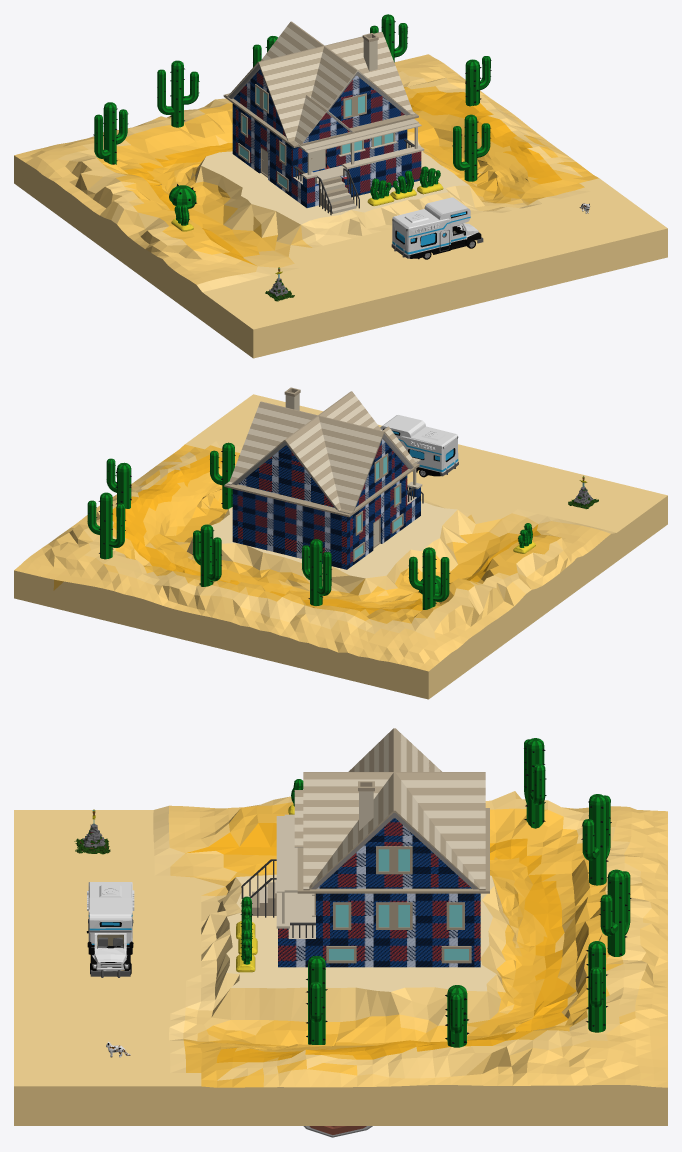
3 views of the same model, one above another, from view 1: azimuth 30°, elevation 25°; view 2: azimuth 150°, elevation 25°; view 3: azimuth 270°, elevation 25° (orthographic). The views are drawn at different scales.
Parts seen in each view (by area): view 1: Cube.001, Cube.171, VEHICLES_CAMPER, Cylinder.037, Cylinder.044, Cylinder.045, Cylinder.038, Cylinder.042, Cylinder.039, Cylinder.041, Sphere.023; view 2: Cube.001, Cube.171, VEHICLES_CAMPER, Cylinder.042, Cylinder.045, Cylinder.044, Cylinder.043, Cylinder.037, Cylinder.038; view 3: Cube.001, Cube.171, VEHICLES_CAMPER, Cylinder.043, Cylinder.044, Cylinder.045, Cylinder.042, Cylinder.037, Cylinder.038, OBJRANDOM_SWORD_IN_THE_STONE, Cylinder.041.
Boxes of the visible parts, x1,y1,x2,y2 form: Cube.001: (14,54,667,358); Cube.171: (223,21,424,215); VEHICLES_CAMPER: (391,197,483,259); Cylinder.037: (452,114,490,181); Cylinder.044: (157,60,199,127); Cylinder.045: (93,102,128,164); Cylinder.038: (465,56,491,106); Cylinder.042: (370,14,407,62); Cylinder.039: (367,178,394,205); Cylinder.041: (417,166,443,194); Sphere.023: (169,184,196,208); Cube.001: (14,394,667,699); Cube.171: (224,387,423,569); VEHICLES_CAMPER: (380,415,458,477); Cylinder.042: (87,492,125,559); Cylinder.045: (408,547,450,609); Cylinder.044: (302,539,331,605); Cylinder.043: (192,524,221,586); Cylinder.037: (210,442,239,509); Cylinder.038: (106,458,131,508); Cube.001: (14,791,667,1125); Cube.171: (241,728,489,967); VEHICLES_CAMPER: (86,882,134,977); Cylinder.043: (599,869,631,956); Cylinder.044: (581,794,611,885); Cylinder.045: (524,738,546,828); Cylinder.042: (586,941,607,1032); Cylinder.037: (306,956,327,1044); Cylinder.038: (445,985,469,1047); OBJRANDOM_SWORD_IN_THE_STONE: (74,809,110,854); Cylinder.041: (236,929,255,972).
Size of the model in its own units: 4002 by 2343 by 4001.
40 materials, 3 textured.
